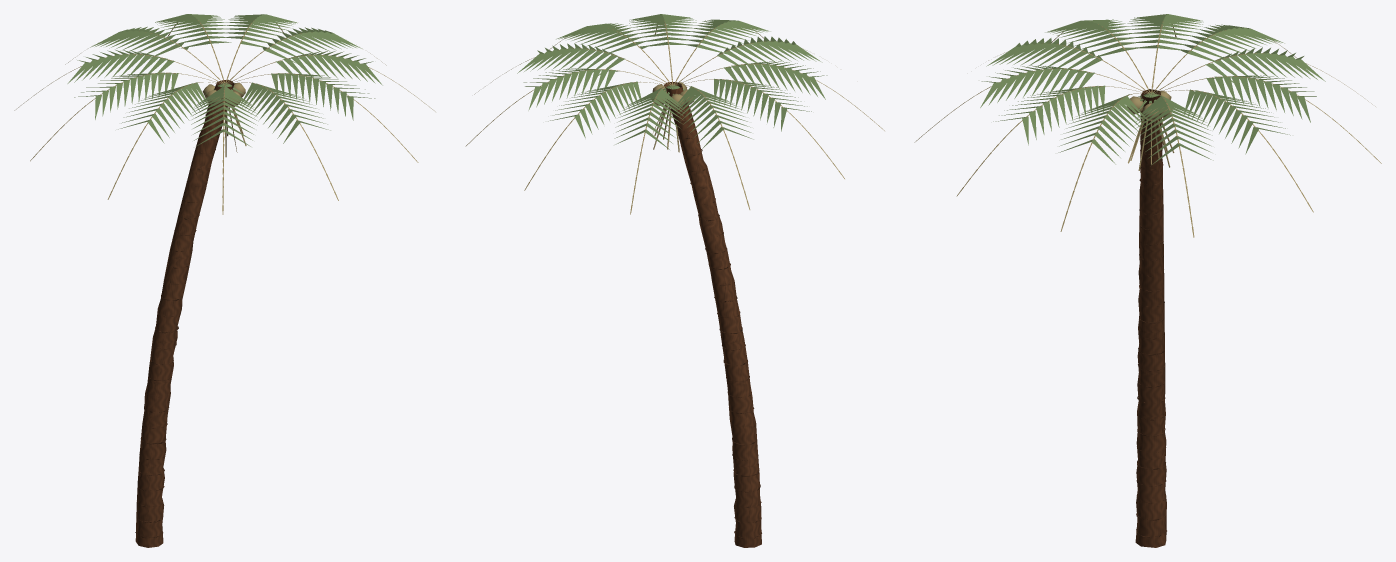
File: pacific-palm-lod.glb
3 views of the same model, side by side, from view 1: azimuth 30°, elevation 25°; view 2: azimuth 150°, elevation 25°; view 3: azimuth 270°, elevation 25° (orthographic). The views are drawn at different scales.
Visible parts, largest first — view 1: Palm waxy leaflets, Palm fibrous bark, Palm dry crown fibers; view 2: Palm waxy leaflets, Palm fibrous bark, Palm dry crown fibers; view 3: Palm waxy leaflets, Palm fibrous bark, Palm dry crown fibers.
Boxes of the visible parts, box(x1,y1,x2,y2) form: Palm waxy leaflets: box(67, 14, 382, 146); Palm fibrous bark: box(135, 80, 234, 547); Palm dry crown fibers: box(14, 18, 435, 214); Palm waxy leaflets: box(517, 14, 827, 149); Palm fibrous bark: box(664, 82, 761, 547); Palm dry crown fibers: box(465, 21, 884, 214); Palm waxy leaflets: box(980, 14, 1325, 165); Palm fibrous bark: box(1135, 89, 1166, 547); Palm dry crown fibers: box(914, 21, 1381, 237).
Size of the model in its own units: 8.71 by 10.54 by 8.66.
Materials: 3 (1 with a texture image).
